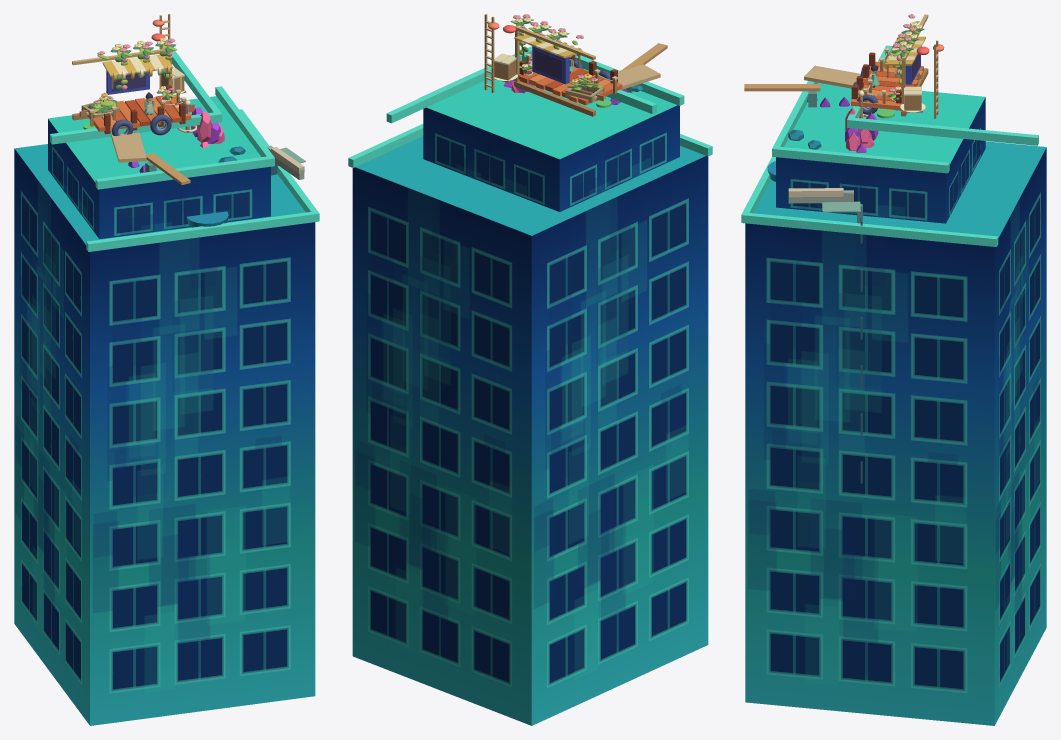
The model's file is unit_01.glb.
The picture shows the model from 3 angles, left to right: view 1: azimuth 30°, elevation 25°; view 2: azimuth 150°, elevation 25°; view 3: azimuth 270°, elevation 25°; orthographic projection. The views are drawn at different scales.
Visible parts, largest first — view 1: unit_01; view 2: unit_01; view 3: unit_01.
Part boxes in pixels (box(x1,y1,x2,y2)): unit_01: box(14, 14, 319, 725); unit_01: box(348, 14, 712, 725); unit_01: box(741, 14, 1046, 725).
Bounding box in the file's own units: 15.64 × 36.83 × 16.13.
Materials: 6 (2 with a texture image).
